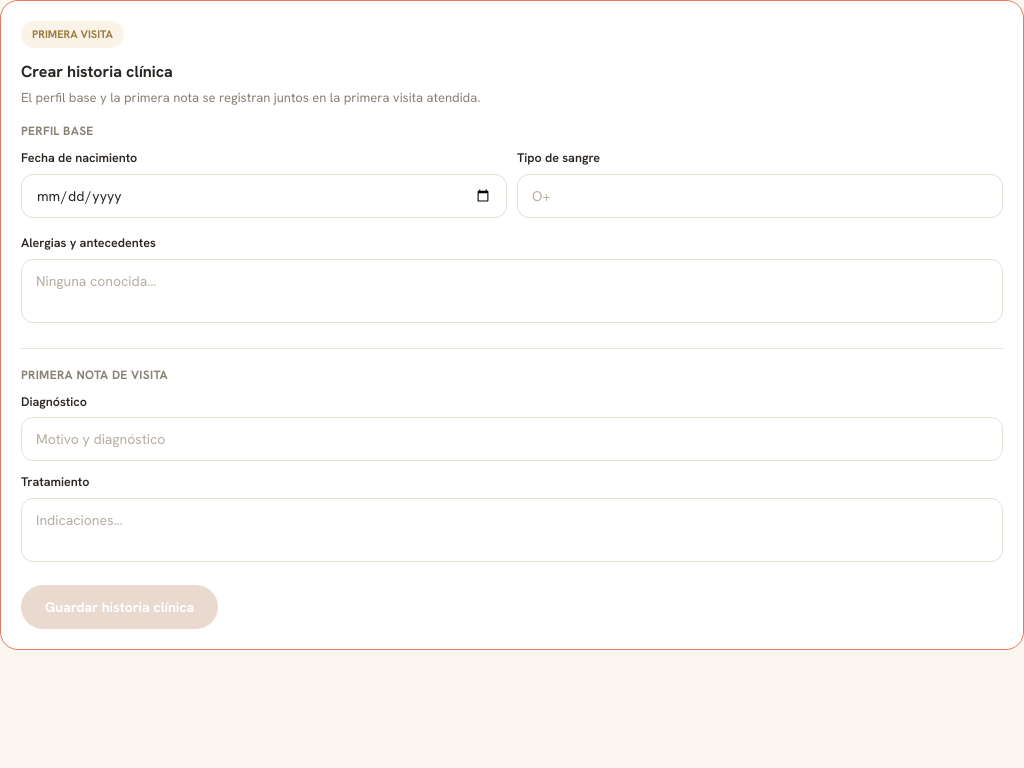
Test: FirstVisitForm › shows an error and does not refresh when the patient has no Attended appointment yet
Type "Migraña" into the field labelled "Diagnóstico" at x=512, y=439, box [21,417,1003,461]
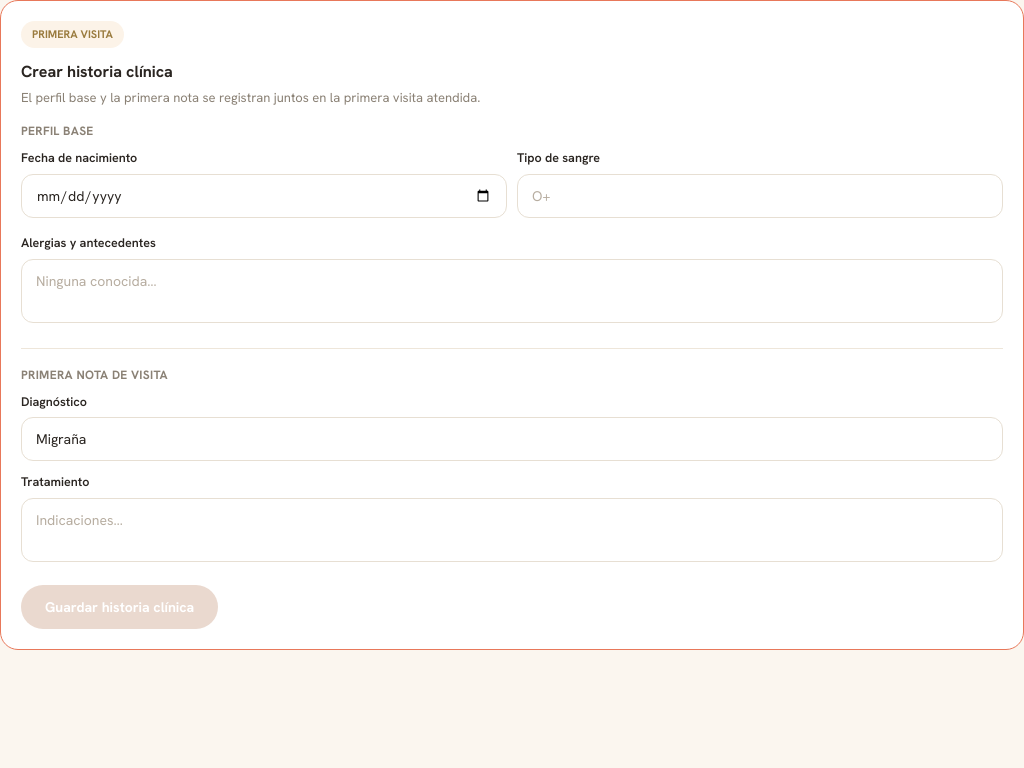
Type "Reposo" into the text box labelled "Tratamiento" at x=512, y=530, box [21,498,1003,562]
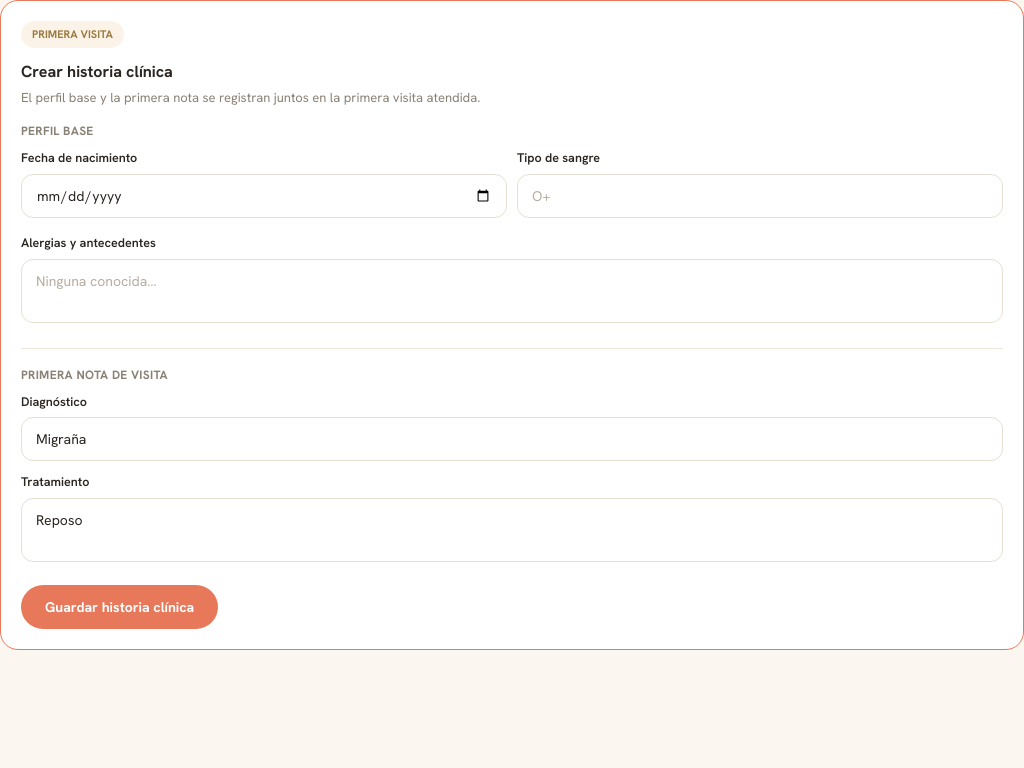
Click the button "Guardar historia clínica" at x=120, y=607, box [21,585,218,629]
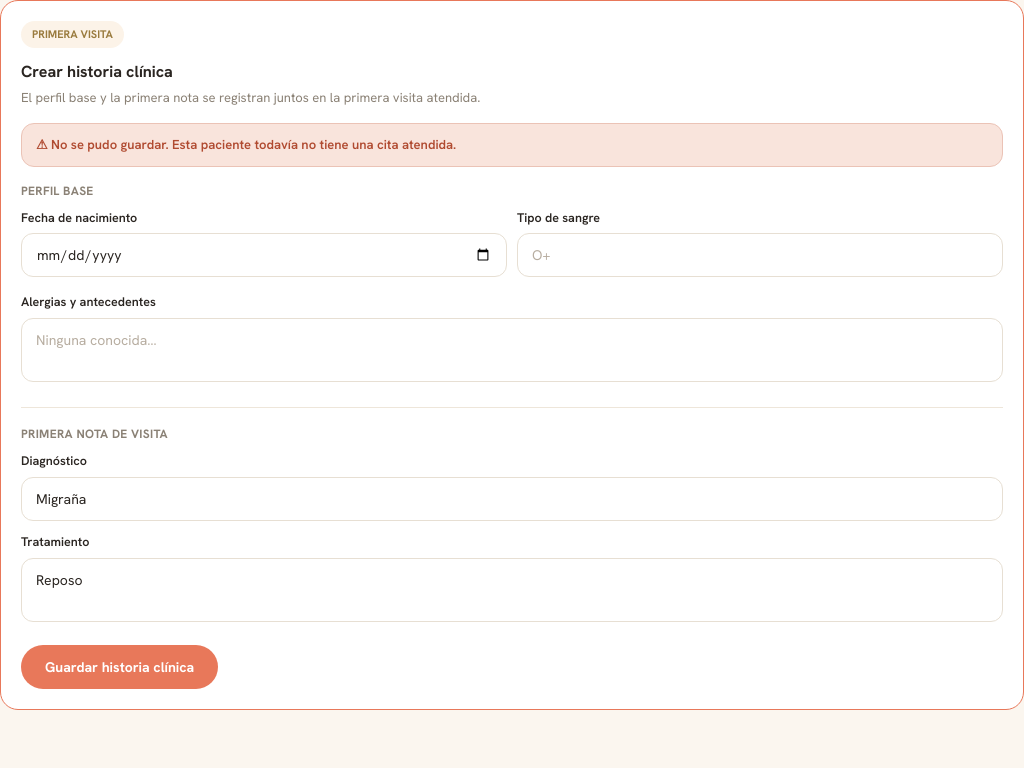
Expected: the message shows "todavía no tiene una cita atendida", [36,136,456,153]
